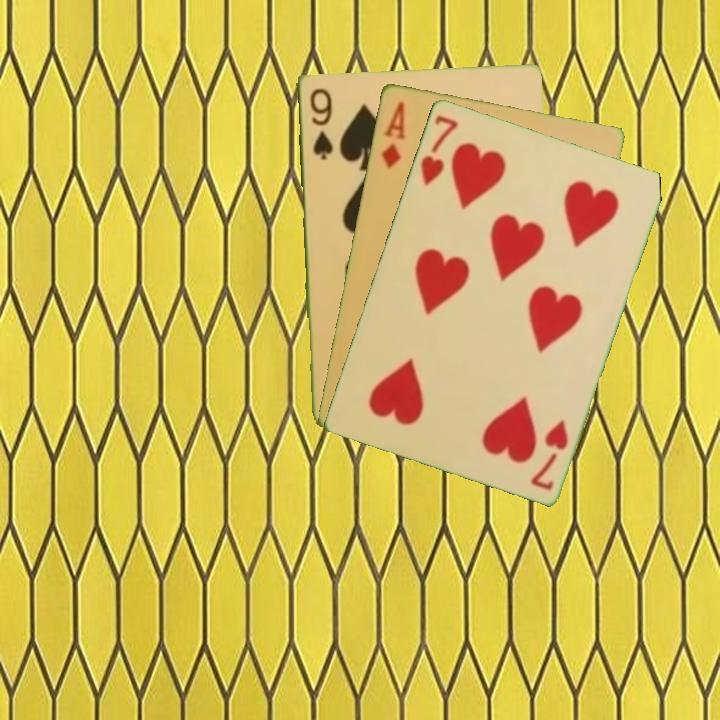7h: (416, 111, 460, 188), (527, 415, 571, 492)
9s: (306, 85, 335, 163)
Ad: (377, 97, 408, 171)
